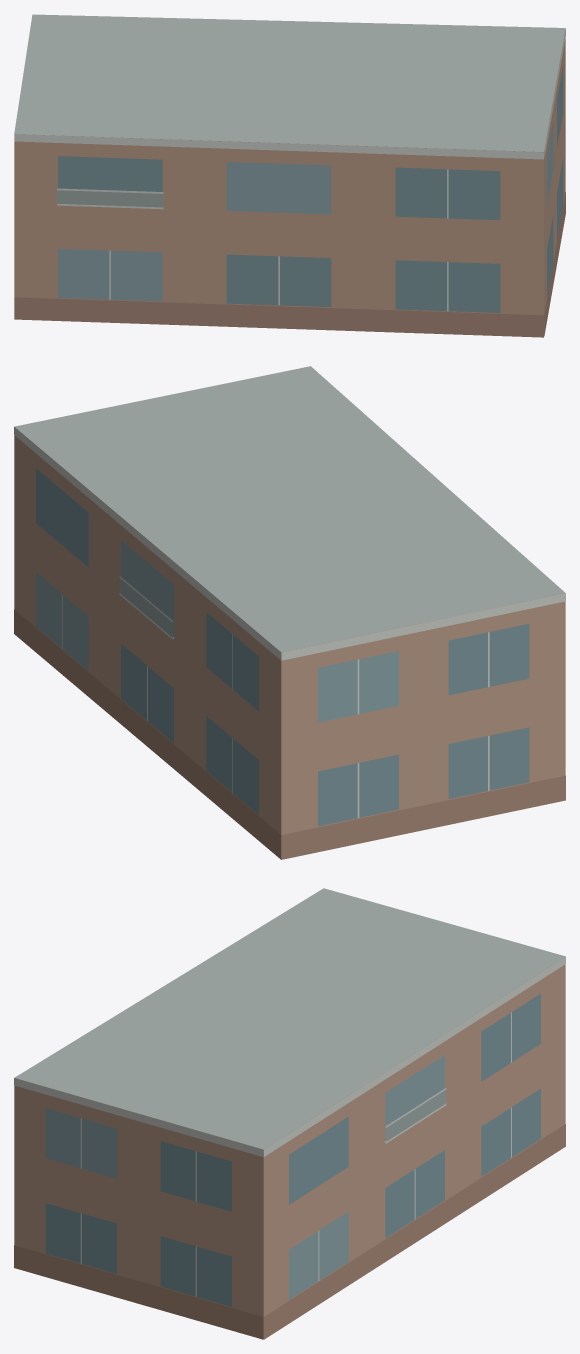
File: survey-upis-32979450.glb
3 renders of one model, top to bottom at view 1: azimuth 30°, elevation 25°; view 2: azimuth 150°, elevation 25°; view 3: azimuth 270°, elevation 25°, orthographic. The views are drawn at different scales.
Parts seen in each view (by area): view 1: survey-upis-32979450.tmp; view 2: survey-upis-32979450.tmp; view 3: survey-upis-32979450.tmp.
Boxes of the visible parts, x1,y1,x2,y2 form: survey-upis-32979450.tmp: (14, 14, 565, 337); survey-upis-32979450.tmp: (14, 366, 565, 859); survey-upis-32979450.tmp: (14, 888, 565, 1339).
Size of the model in its own units: 18 by 6.1 by 16.05.
